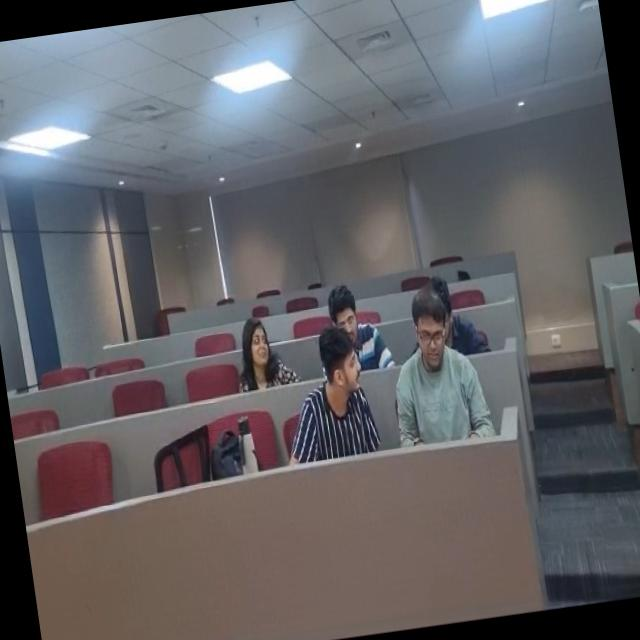cheating: (296, 284, 379, 438), (395, 289, 483, 432), (399, 255, 486, 367), (216, 302, 291, 392), (319, 281, 382, 368)
